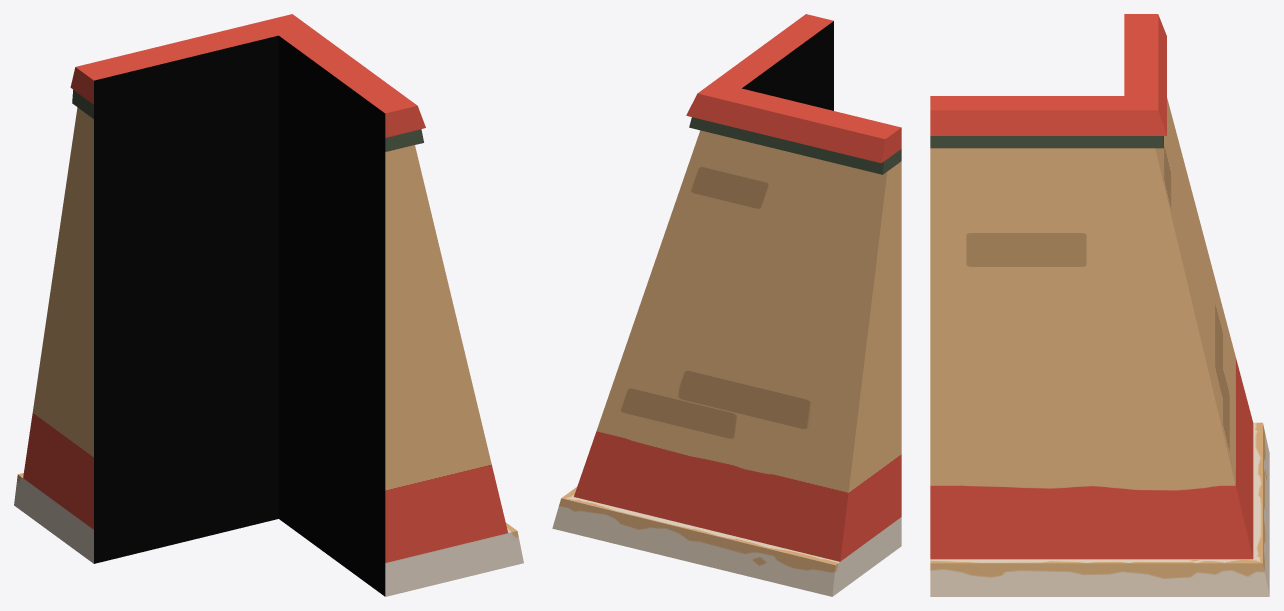
File: wallOuterCorner.fbx
3 views of the same model, side by side, from view 1: azimuth 30°, elevation 25°; view 2: azimuth 150°, elevation 25°; view 3: azimuth 270°, elevation 25° (orthographic). The views are drawn at different scales.
Visible parts, largest first — view 1: WallOuterCorner; view 2: WallOuterCorner; view 3: WallOuterCorner.
Boxes of the visible parts, x1,y1,x2,y2 form: WallOuterCorner: (14, 14, 523, 596); WallOuterCorner: (552, 14, 901, 596); WallOuterCorner: (930, 14, 1269, 596).
Bounding box in the file's own units: 350 × 500 × 350.
